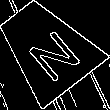N_NW: (14, 16, 79, 80)
